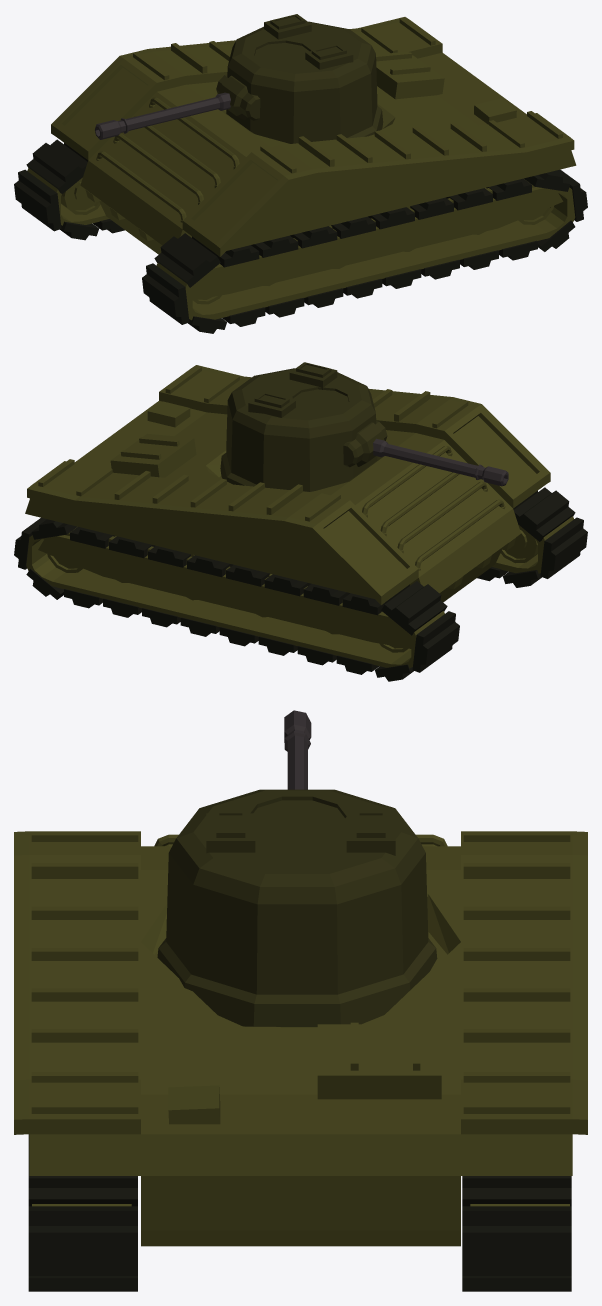
File: tank3.glb
3 views of the same model, one above another, from view 1: azimuth 30°, elevation 25°; view 2: azimuth 150°, elevation 25°; view 3: azimuth 270°, elevation 25° (orthographic). The views are drawn at different scales.
Parts seen in each view (by area): view 1: Tank_body_Cube.009, Tank_Turret_Cylinder, TrackMesh.L_Cube.051, TrackMesh.R_Cube.000, Tank_Gun_Cylinder.001; view 2: Tank_body_Cube.009, Tank_Turret_Cylinder, TrackMesh.R_Cube.000, TrackMesh.L_Cube.051, Tank_Gun_Cylinder.001; view 3: Tank_body_Cube.009, Tank_Turret_Cylinder, TrackMesh.L_Cube.051, TrackMesh.R_Cube.000, Tank_Gun_Cylinder.001.
Part boxes in pixels (x1,y1,x2,y2): Tank_body_Cube.009: (27,17,576,320); Tank_Turret_Cylinder: (216,14,383,143); TrackMesh.L_Cube.051: (142,169,587,333); TrackMesh.R_Cube.000: (14,139,124,240); Tank_Gun_Cylinder.001: (95,92,230,139); Tank_body_Cube.009: (25,365,573,668); Tank_Turret_Cylinder: (220,362,387,491); TrackMesh.R_Cube.000: (14,517,459,681); TrackMesh.L_Cube.051: (477,487,587,587); Tank_Gun_Cylinder.001: (373,438,508,486); Tank_body_Cube.009: (14,831,587,1246); Tank_Turret_Cylinder: (157,789,437,1026); TrackMesh.L_Cube.051: (28,1134,137,1291); TrackMesh.R_Cube.000: (462,1176,571,1291); Tank_Gun_Cylinder.001: (284,710,311,789).
Size of the model in its own units: 14.87 by 6.76 by 10.54.
